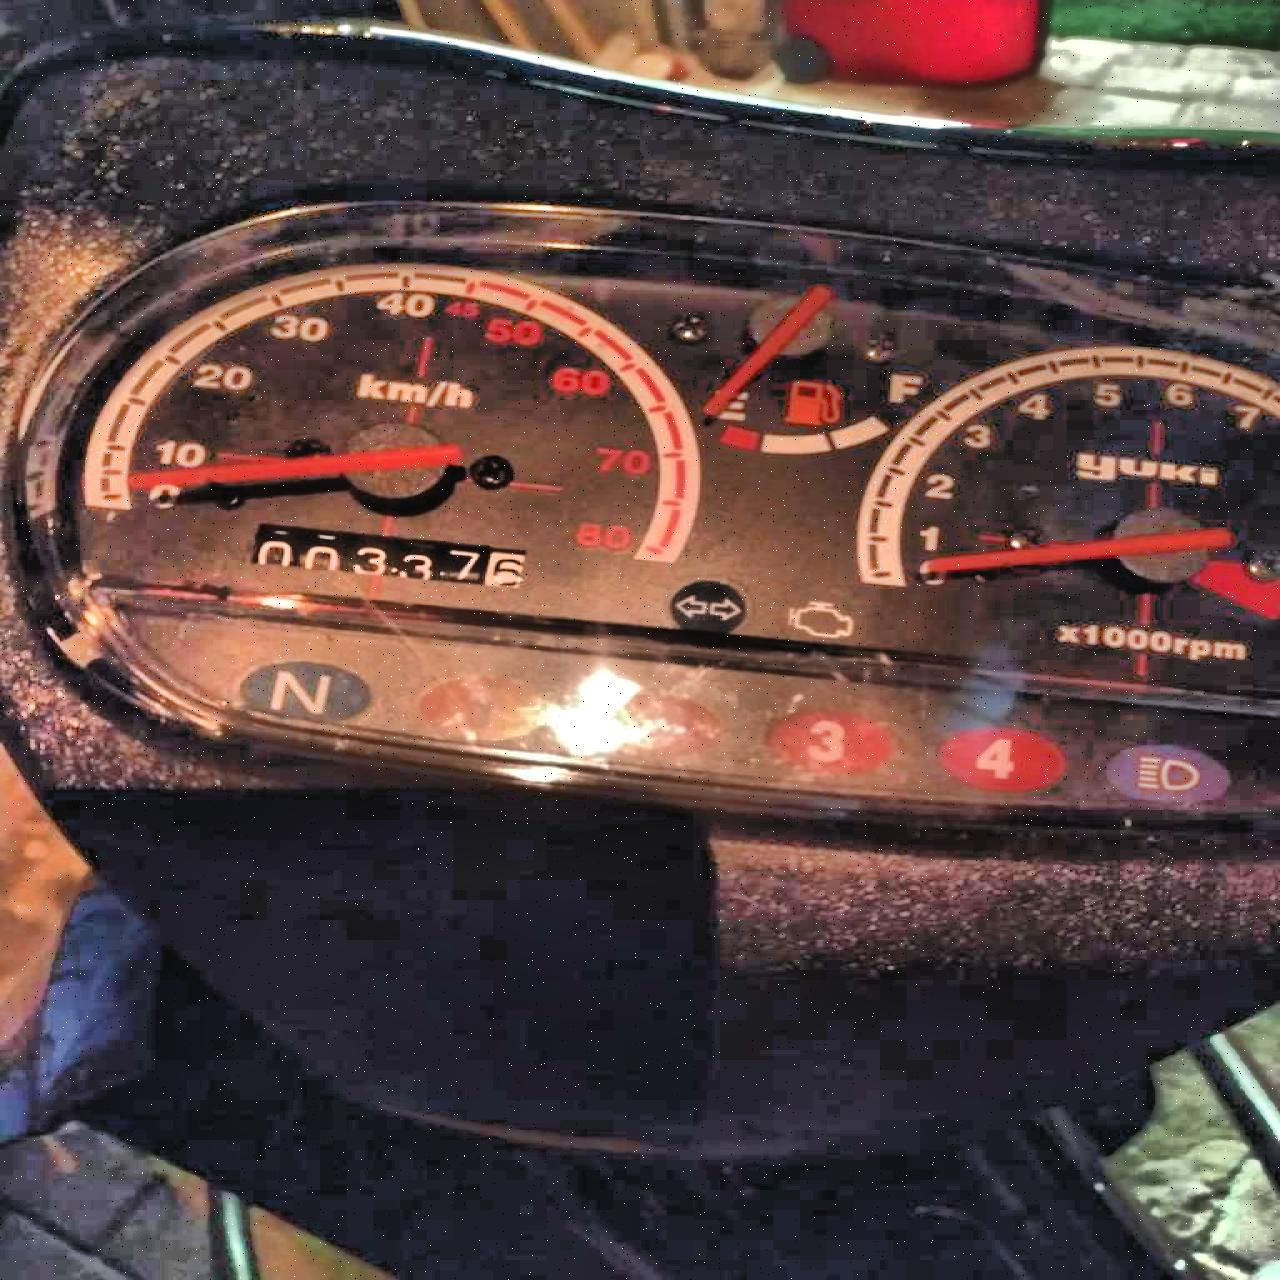0: (257, 540, 290, 570), (302, 545, 336, 574)
3: (397, 552, 430, 582), (352, 546, 385, 575)
6: (490, 557, 520, 585)
7: (447, 549, 480, 580)
odometer: (248, 521, 527, 590)
